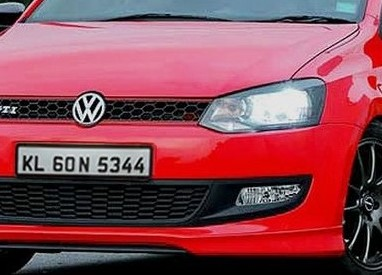KL60N5344: (16, 145, 151, 177)
